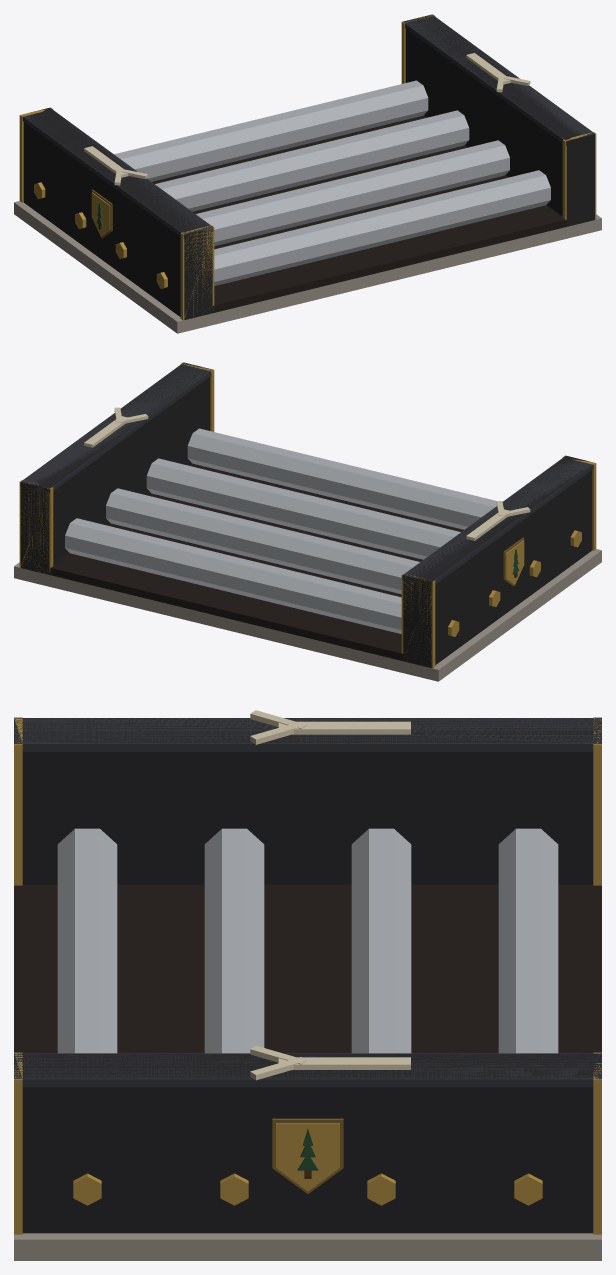
The model's file is ConveyorShort.glb.
The picture shows the model from 3 angles, top to bottom: view 1: azimuth 30°, elevation 25°; view 2: azimuth 150°, elevation 25°; view 3: azimuth 270°, elevation 25°; orthographic projection. The views are drawn at different scales.
Parts seen in each view (by area): view 1: Rollers, Body, Belt, ArrowDecal; view 2: Rollers, Body, Belt, ArrowDecal; view 3: Body, Belt, Rollers, ArrowDecal.
Part boxes in pixels (bbox=[...]): Rollers: bbox=[34, 80, 550, 288]; Body: bbox=[14, 14, 601, 333]; Belt: bbox=[152, 115, 566, 312]; ArrowDecal: bbox=[84, 53, 530, 185]; Rollers: bbox=[65, 428, 581, 636]; Body: bbox=[14, 362, 601, 681]; Belt: bbox=[49, 463, 463, 660]; ArrowDecal: bbox=[84, 407, 530, 540]; Body: bbox=[14, 717, 601, 1260]; Belt: bbox=[14, 884, 601, 1053]; Rollers: bbox=[57, 828, 558, 1205]; ArrowDecal: bbox=[250, 710, 410, 1080].
Size of the model in its own units: 6 by 1.37 by 4.
